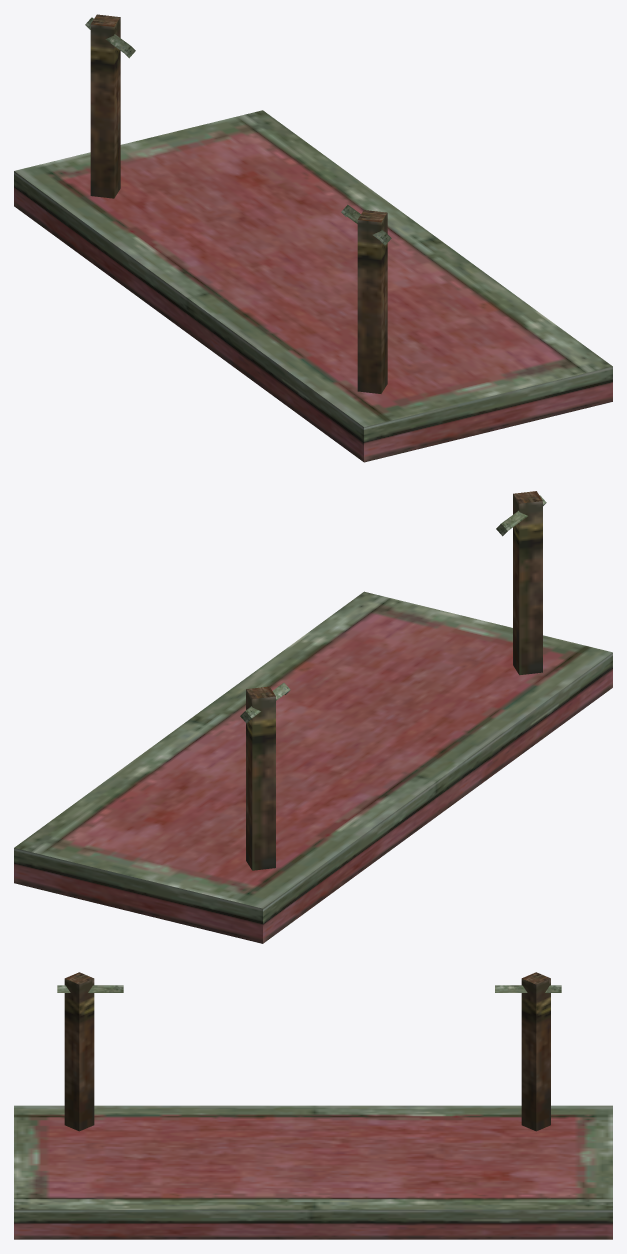
Rendered from USA - Prop - Ancient Pond Dock - PAWdDock.glb.
3 views of the same model, one above another, from view 1: azimuth 30°, elevation 25°; view 2: azimuth 150°, elevation 25°; view 3: azimuth 270°, elevation 25° (orthographic). The views are drawn at different scales.
Visible parts, largest first — view 1: PAWDDOCK; view 2: PAWDDOCK; view 3: PAWDDOCK.
Boxes of the visible parts, x1,y1,x2,y2 form: PAWDDOCK: (14,14,612,462); PAWDDOCK: (14,491,612,943); PAWDDOCK: (14,972,612,1239).
Size of the model in its own units: 14.1 by 11.2 by 34.36.
1 material, 1 textured.
